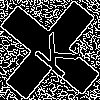K: (25, 25, 82, 80)
